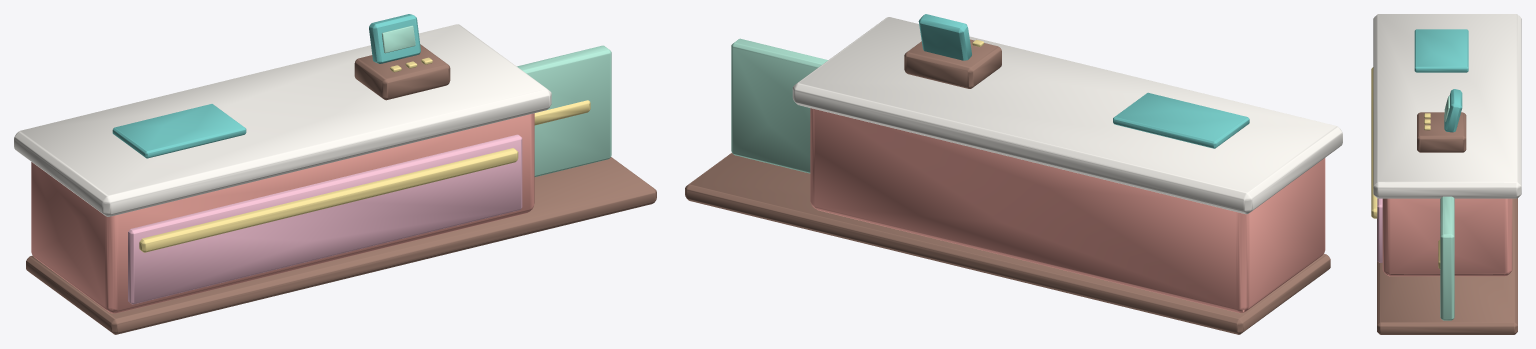
File: main_serving_counter.glb
The picture shows the model from 3 angles, left to right: view 1: azimuth 30°, elevation 25°; view 2: azimuth 150°, elevation 25°; view 3: azimuth 270°, elevation 25°; orthographic projection. The views are drawn at different scales.
Parts seen in each view (by area): view 1: ServingCounter_Top, ServingCounter_FrontPanel, ServingCounter_Body, ServingCounter_Platform, ServingCounter_Hatch, ServingCounter_FrontStripe, ServingCounter_Tray, CashRegister_Base, CashRegister_Display, ServingCounter_HatchAccent, CashRegister_Screen; view 2: ServingCounter_Body, ServingCounter_Top, ServingCounter_Platform, ServingCounter_Hatch, ServingCounter_Tray, CashRegister_Base, CashRegister_Display; view 3: ServingCounter_Top, ServingCounter_Body, ServingCounter_Platform, ServingCounter_Tray, ServingCounter_Hatch, CashRegister_Base, CashRegister_Display, ServingCounter_FrontStripe, ServingCounter_FrontPanel.
Boxes of the visible parts, box(x1,y1,x2,y2) form: ServingCounter_Top: box(14, 24, 551, 216); ServingCounter_FrontPanel: box(128, 134, 522, 304); ServingCounter_Body: box(31, 113, 534, 313); ServingCounter_Platform: box(26, 157, 656, 334); ServingCounter_Hatch: box(517, 45, 611, 176); ServingCounter_FrontStripe: box(139, 148, 518, 252); ServingCounter_Tray: box(112, 104, 246, 158); CashRegister_Base: box(354, 44, 450, 100); CashRegister_Display: box(369, 14, 420, 63); ServingCounter_HatchAccent: box(534, 100, 590, 125); CashRegister_Screen: box(382, 25, 415, 53); ServingCounter_Body: box(810, 108, 1325, 313); ServingCounter_Top: box(792, 17, 1342, 214); ServingCounter_Platform: box(685, 153, 1330, 334); ServingCounter_Hatch: box(731, 38, 827, 173); ServingCounter_Tray: box(1113, 92, 1249, 148); CashRegister_Base: box(904, 39, 1001, 88); CashRegister_Display: box(918, 14, 971, 60); ServingCounter_Top: box(1373, 14, 1521, 198); ServingCounter_Body: box(1382, 198, 1512, 276); ServingCounter_Platform: box(1377, 198, 1517, 334); ServingCounter_Tray: box(1414, 29, 1468, 72); ServingCounter_Hatch: box(1440, 196, 1454, 320); CashRegister_Base: box(1417, 112, 1466, 152); CashRegister_Display: box(1444, 89, 1462, 132); ServingCounter_FrontStripe: box(1371, 67, 1377, 218); ServingCounter_FrontPanel: box(1377, 198, 1382, 262).
Size of the model in its own units: 4.28 by 1.48 by 1.28.
